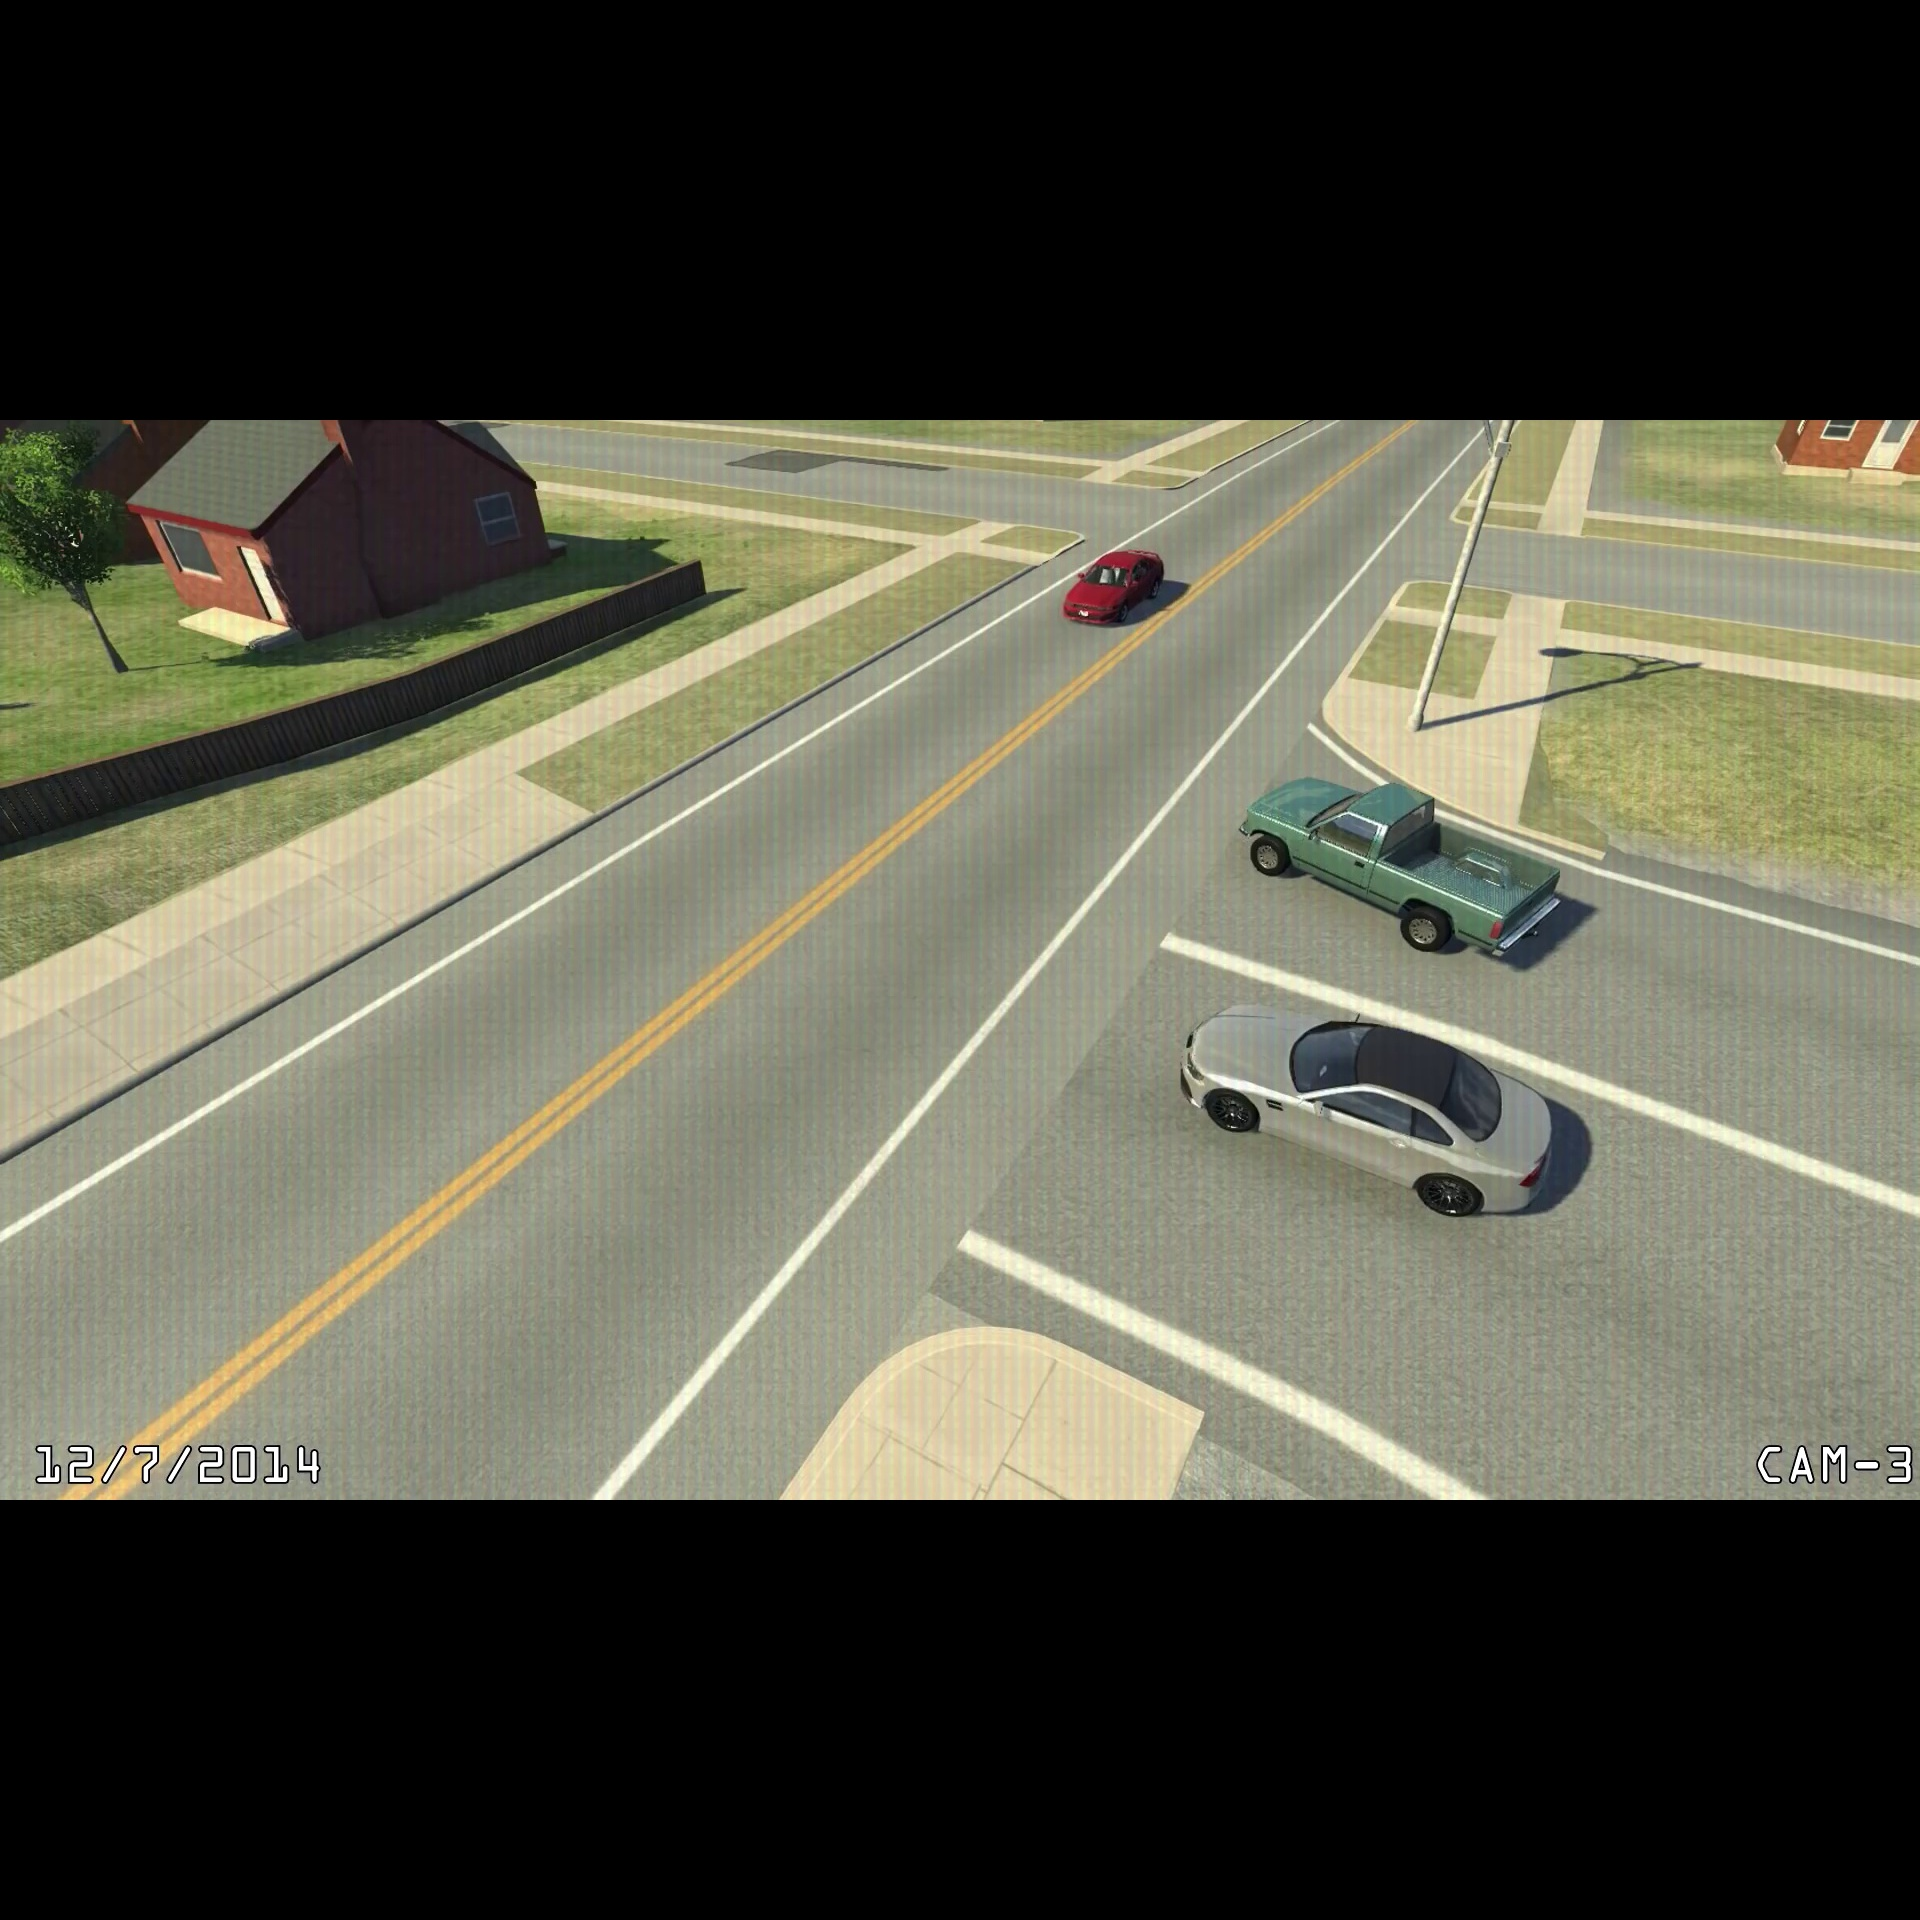vehicle: (1169, 993, 1558, 1231), (1234, 767, 1568, 964), (1057, 542, 1169, 636)
